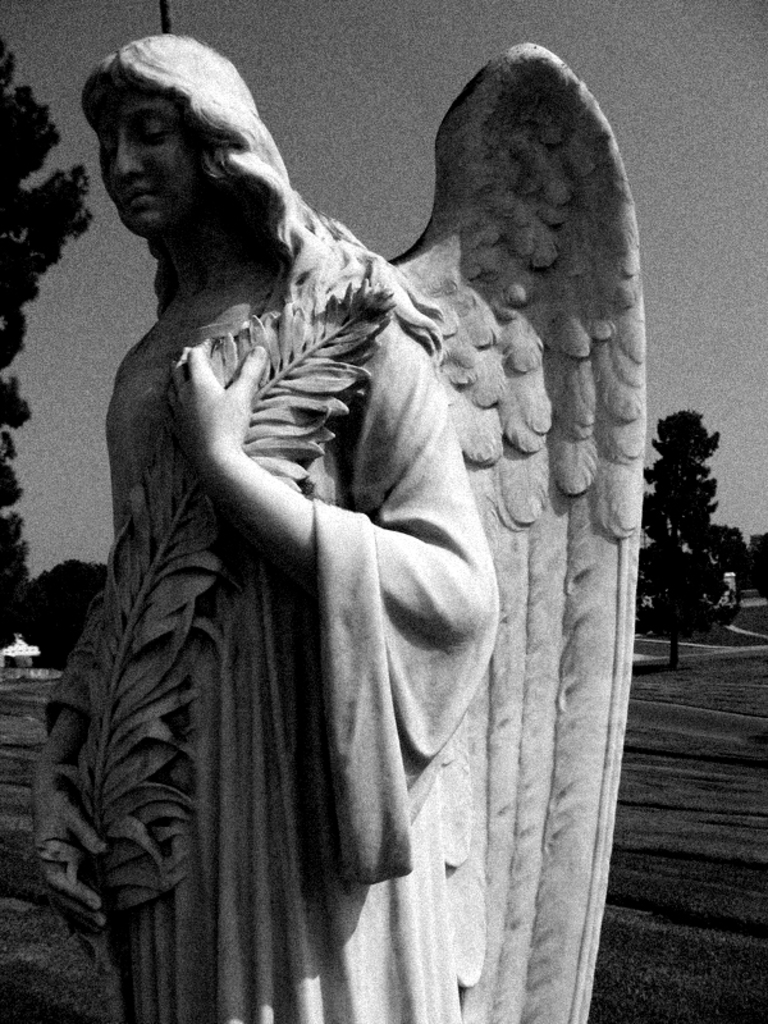Tree: (0, 34, 92, 640), (640, 407, 747, 666)
